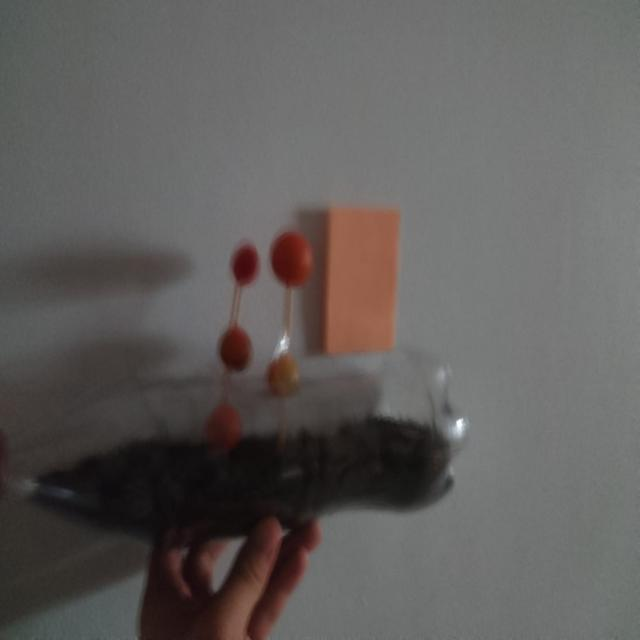card: (323, 207, 400, 354), (323, 207, 400, 353)
fruit_maturation: (267, 353, 299, 397)
fully_grown: (271, 231, 312, 289), (206, 403, 241, 450), (219, 325, 252, 371), (231, 243, 259, 286)
